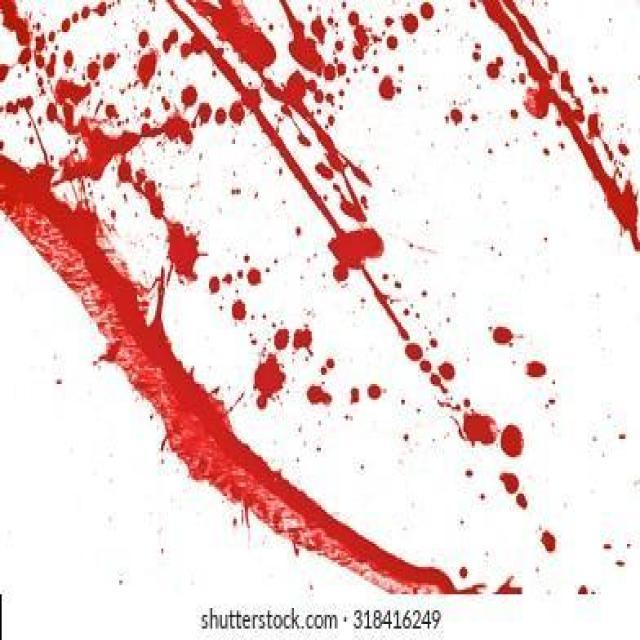flood: (0, 0, 159, 269)
